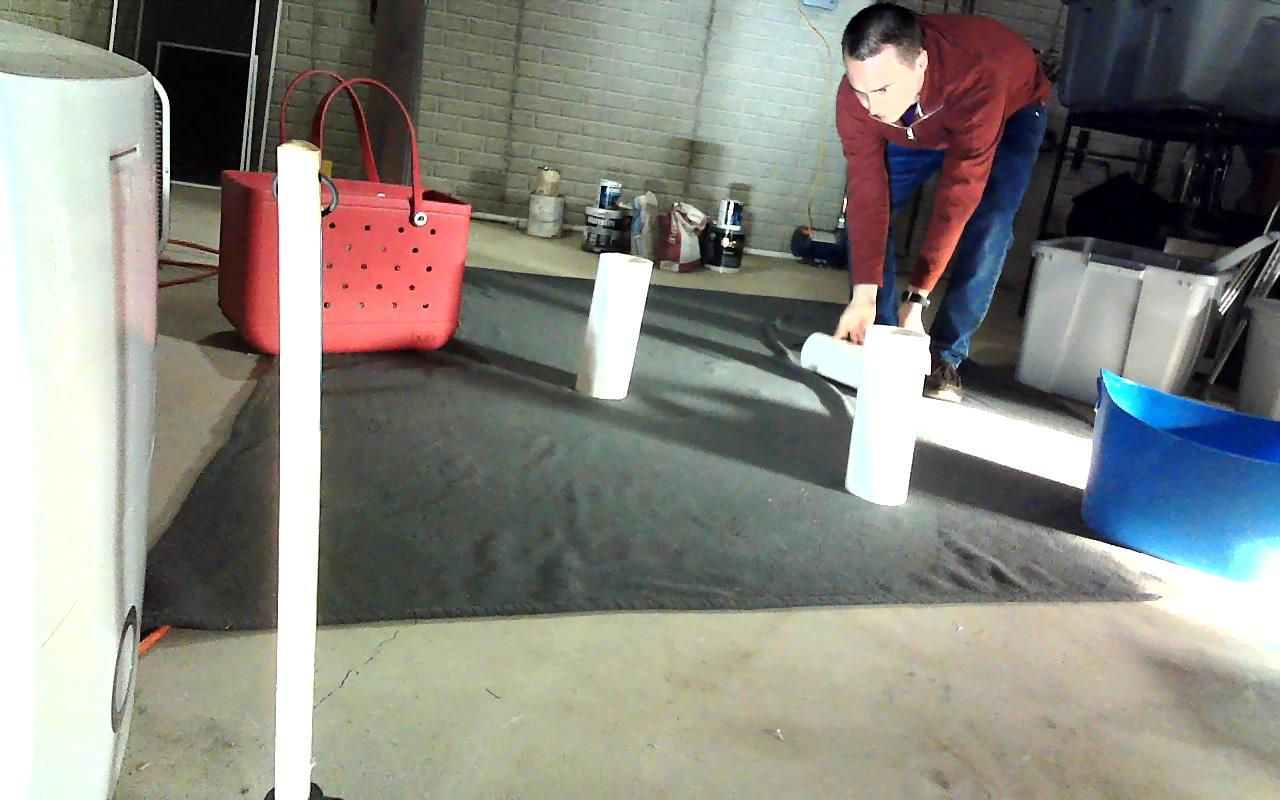coral: (844, 326, 928, 505), (584, 253, 650, 400)
